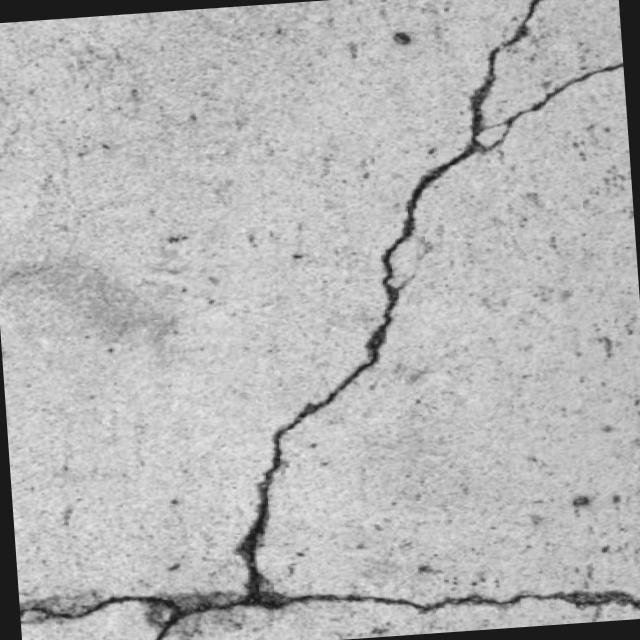crack: (204, 140, 501, 582), (20, 550, 640, 640), (461, 0, 627, 155)
